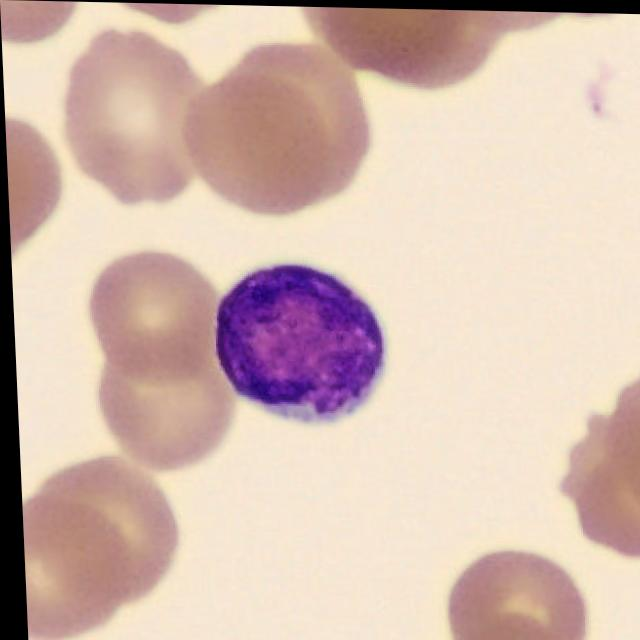Linfocito: (211, 263, 384, 423)
